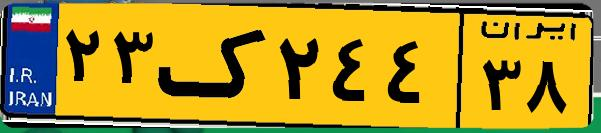2: (270, 28, 330, 110), (57, 26, 110, 100)
3: (475, 38, 525, 113), (110, 28, 158, 98)
4: (385, 28, 445, 110), (330, 28, 385, 110)
8: (525, 38, 570, 115)
ک: (158, 12, 270, 120)
